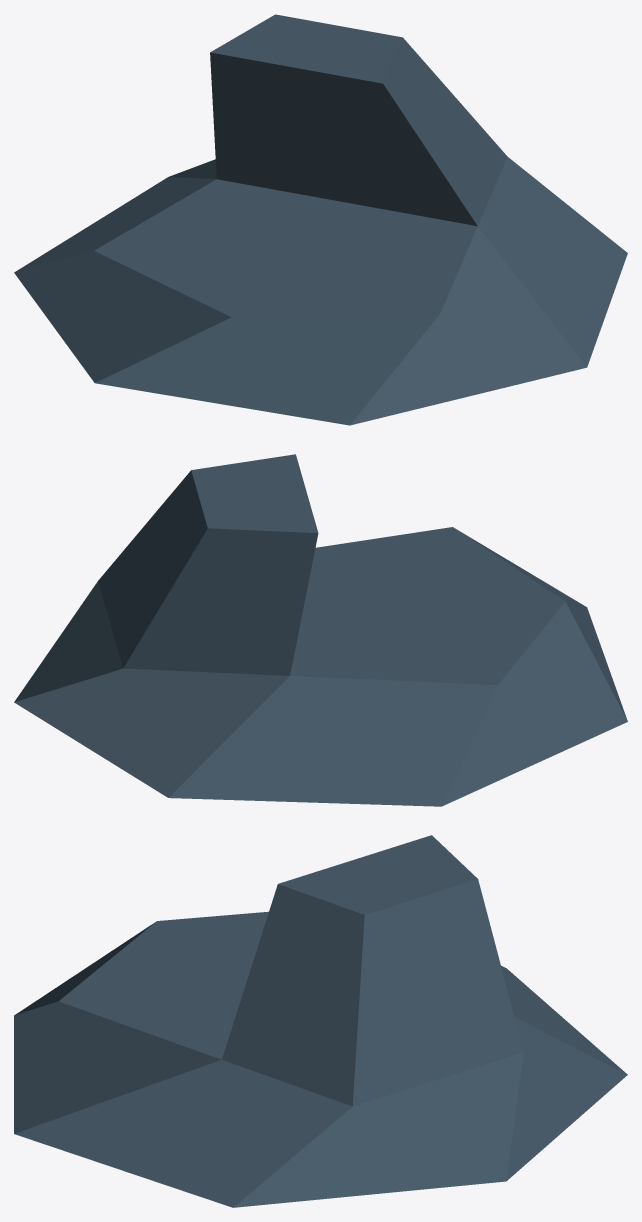
File: rock-034.glb
3 views of the same model, one above another, from view 1: azimuth 30°, elevation 25°; view 2: azimuth 150°, elevation 25°; view 3: azimuth 270°, elevation 25° (orthographic). The views are drawn at different scales.
Visible parts, largest first — view 1: Rock 7_534; view 2: Rock 7_534; view 3: Rock 7_534.
Part boxes in pixels (x1=…): Rock 7_534: x1=14, y1=14, x2=627, y2=425; Rock 7_534: x1=14, y1=454, x2=627, y2=806; Rock 7_534: x1=14, y1=835, x2=627, y2=1207.
Size of the model in its own units: 1.65 by 0.6133 by 1.61.
